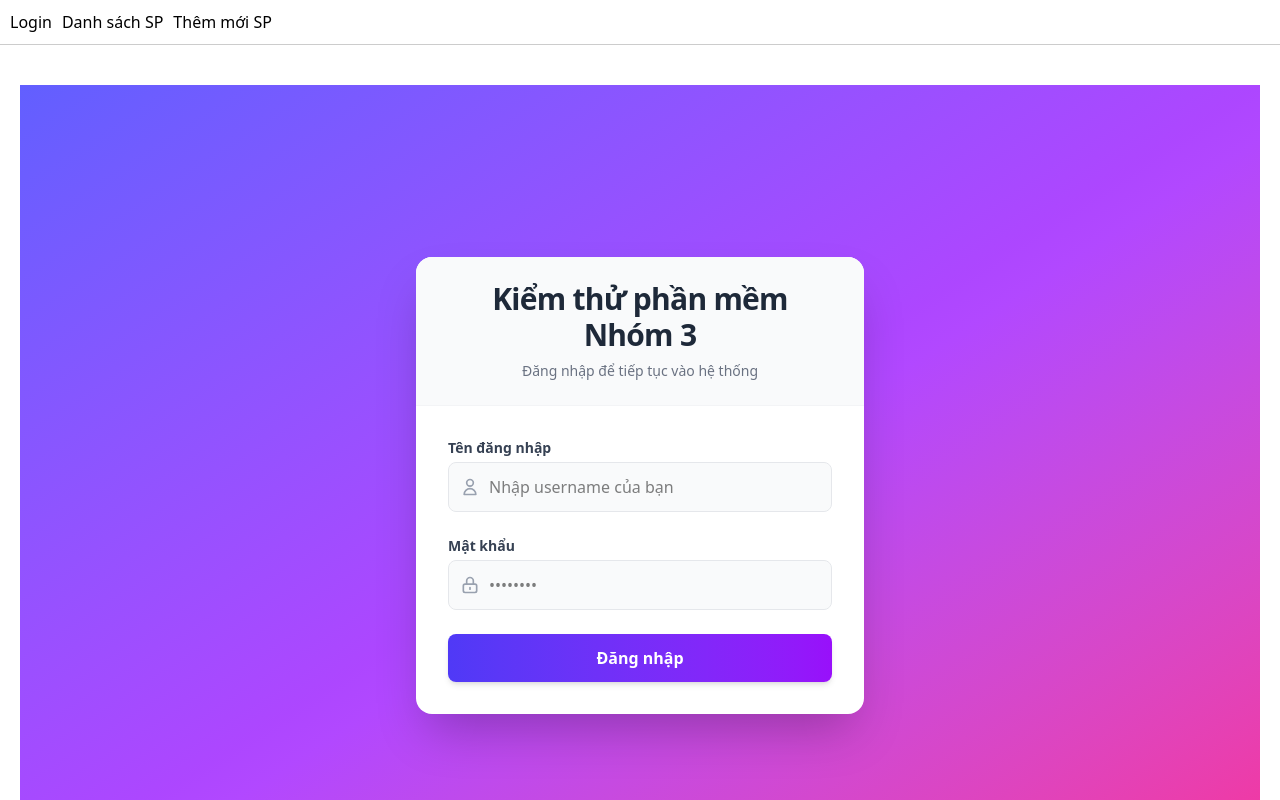
Test: Login Mocking (meets 5.1.1) › Mock: Login thành công (stub /api/login, verify request & response)
The width and height of the screenshot is (1280, 800).
Type "testuser" into the field with test id "username-input" at (640, 487), box [448,462,832,512]
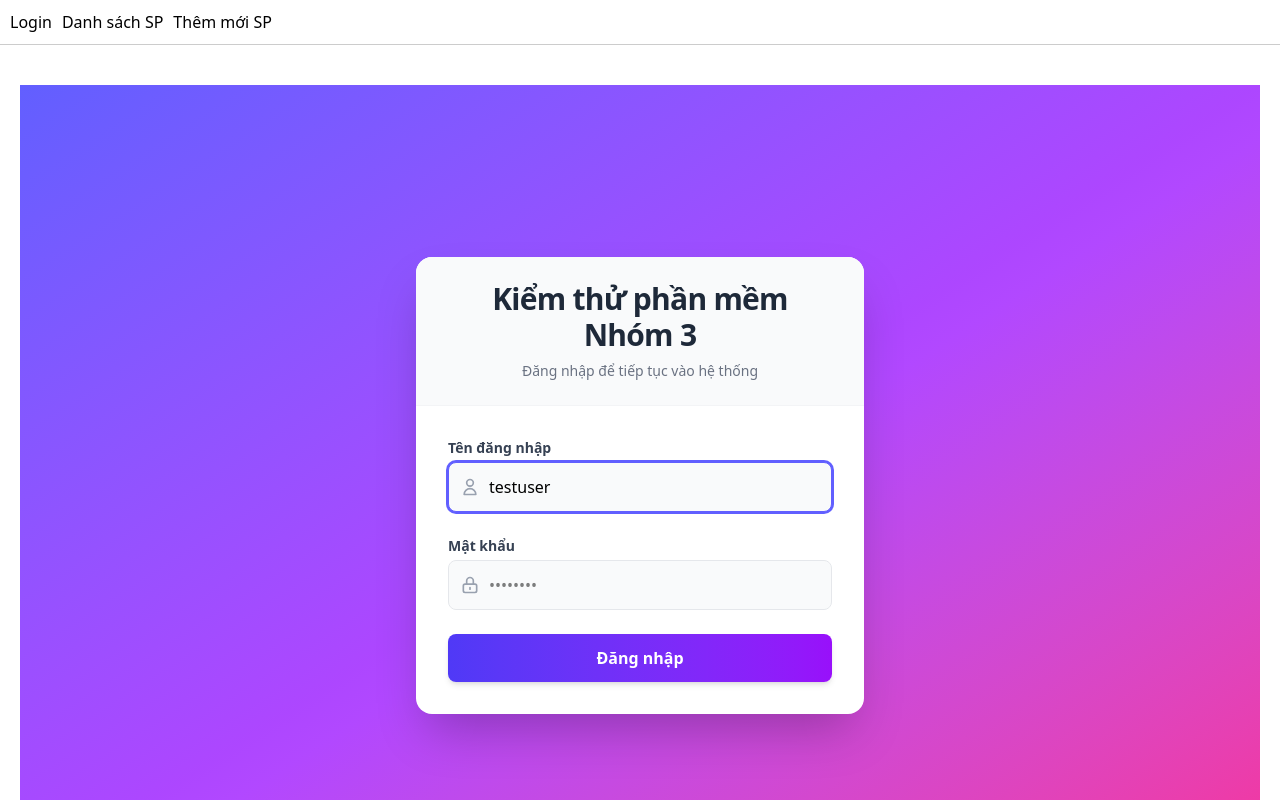
Type "Test123" into the password field with test id "password-input" at (640, 585), box [448,560,832,610]
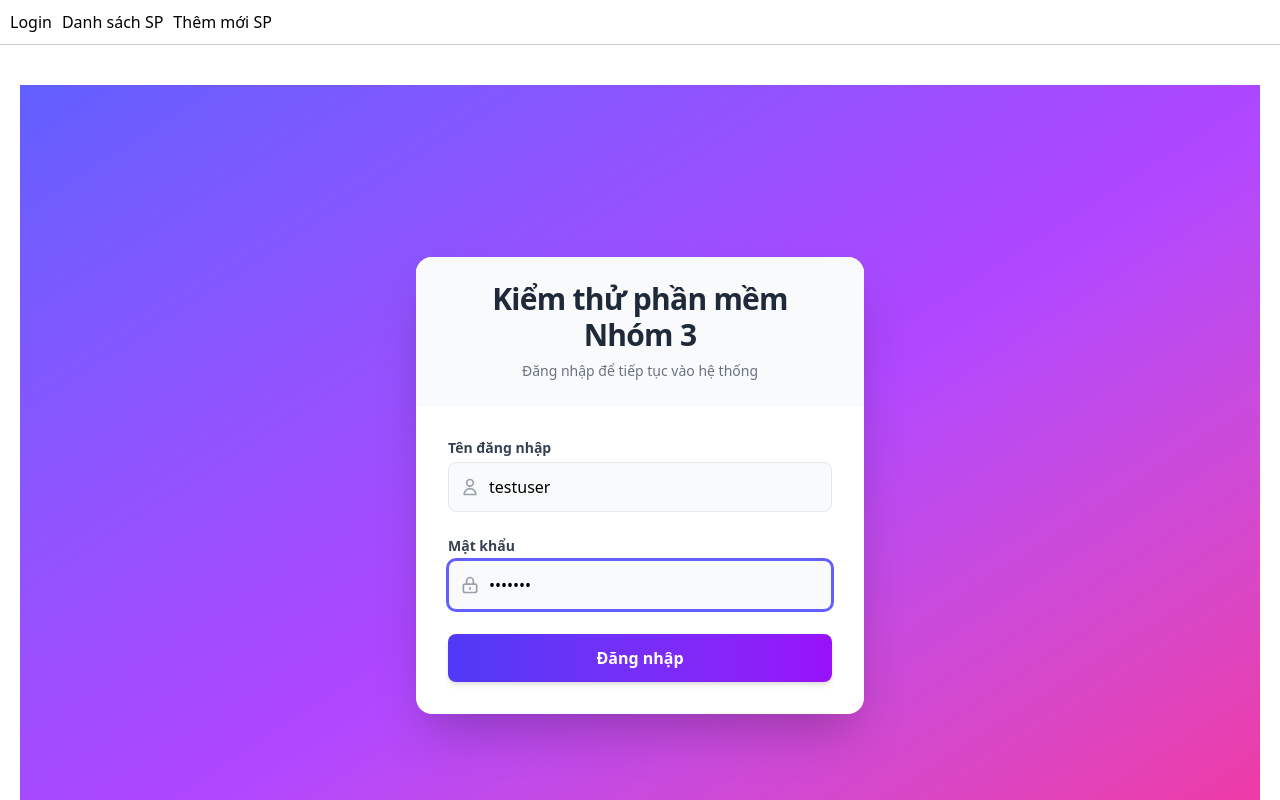
Click the button with test id "login-button" at (640, 658), box [448,634,832,682]
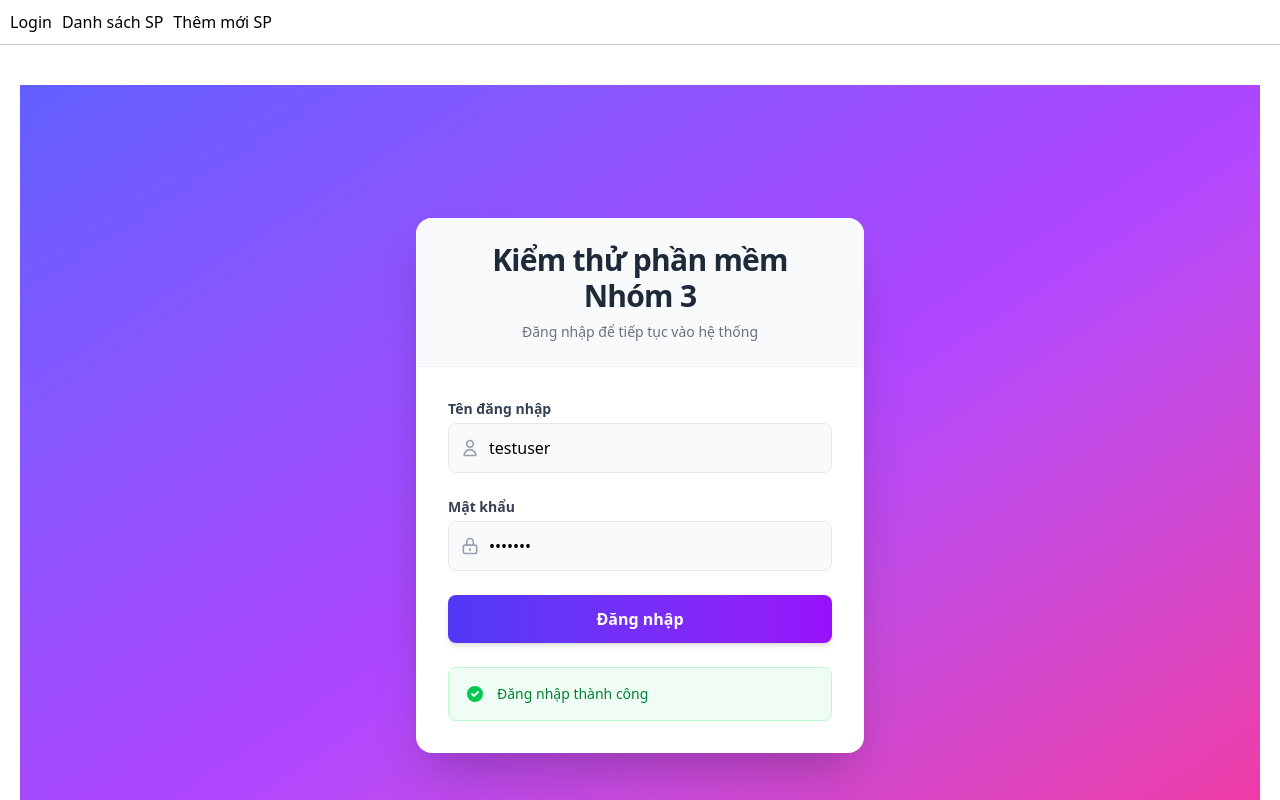
Expected: the text with test id "login-message" reads "Đăng nhập thành công", [497,684,648,703]
